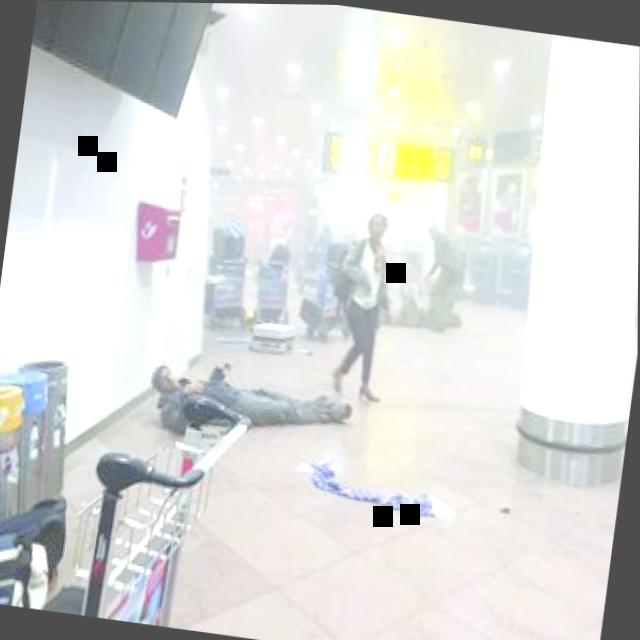Fall-Detected: (113, 324, 375, 468)
